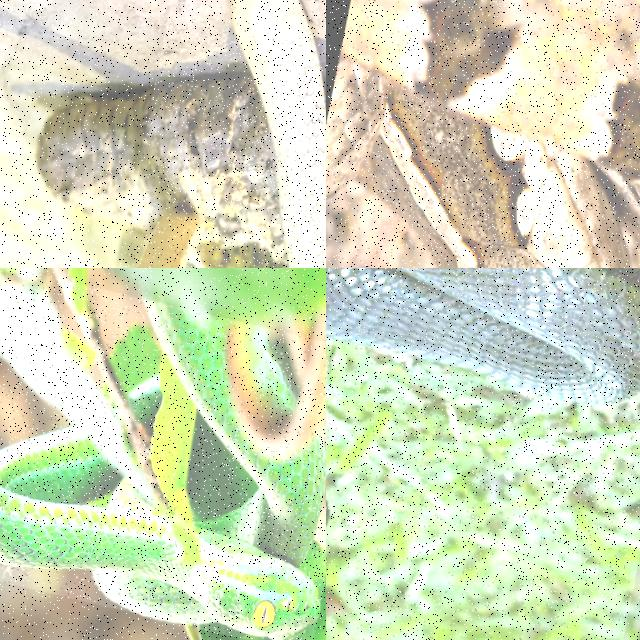Calloselasma rhodostoma: (326, 0, 639, 267)
Naja kaouthia: (326, 268, 639, 403)
Ophiophagus hannah: (227, 0, 325, 267)
Trimeresurus macrops: (0, 300, 324, 639)
snake: (0, 300, 324, 639), (326, 0, 639, 267), (326, 268, 639, 403), (227, 0, 325, 267)
